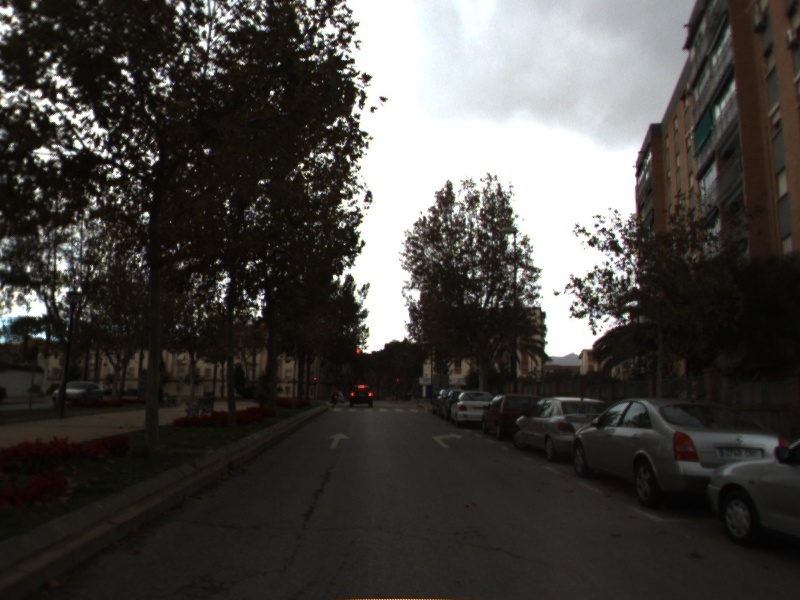RIGHT: (430, 431, 466, 450)
STRAIGHT: (325, 431, 353, 451)
